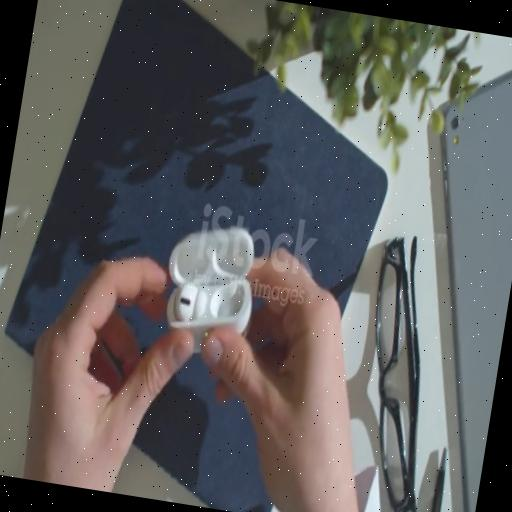earphone: (152, 211, 262, 362)
